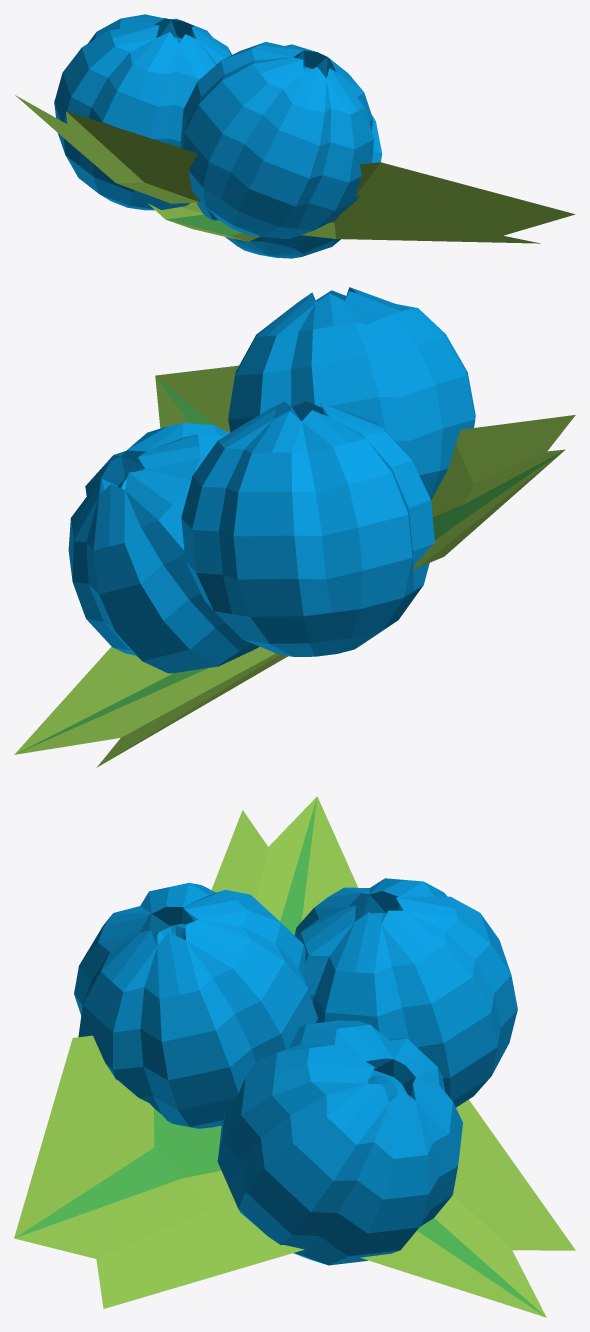
The model's file is blueberries.glb.
The picture shows the model from 3 angles, top to bottom: view 1: azimuth 30°, elevation 25°; view 2: azimuth 150°, elevation 25°; view 3: azimuth 270°, elevation 25°; orthographic projection. The views are drawn at different scales.
Parts seen in each view (by area): view 1: group219361454, group426714509, group1797682334, group974634769, group167631196, group1132167899; view 2: group426714509, group219361454, group167631196, group1132167899, group974634769, group1797682334; view 3: group167631196, group219361454, group1797682334, group426714509, group1132167899, group974634769.
Boxes of the visible parts, box(x1,y1,x2,y2) form: group219361454: box(180, 42, 373, 239); group426714509: box(54, 14, 232, 210); group1797682334: box(301, 162, 575, 243); group974634769: box(15, 95, 200, 203); group167631196: box(196, 115, 382, 258); group1132167899: box(148, 202, 259, 241); group426714509: box(181, 401, 434, 656); group219361454: box(228, 287, 475, 500); group167631196: box(68, 423, 259, 673); group1132167899: box(14, 646, 287, 767); group974634769: box(413, 415, 575, 568); group1797682334: box(155, 365, 238, 432); group167631196: box(217, 1020, 462, 1265); group219361454: box(74, 882, 317, 1128); group1797682334: box(14, 1035, 304, 1308); group426714509: box(294, 878, 517, 1107); group1132167899: box(360, 1099, 575, 1317); group974634769: box(211, 796, 358, 935).
Bounding box in the file's own units: 0.7289 × 0.4372 × 0.6417.
